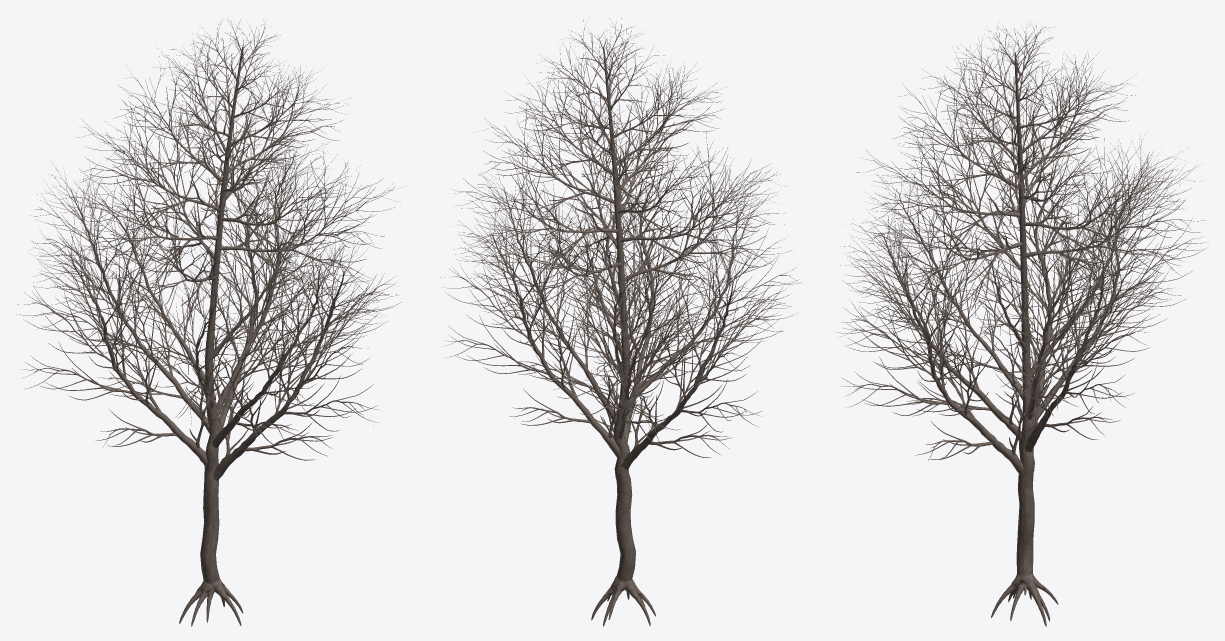
File: bark8.obj
3 views of the same model, side by side, from view 1: azimuth 30°, elevation 25°; view 2: azimuth 150°, elevation 25°; view 3: azimuth 270°, elevation 25° (orthographic). The views are drawn at different scales.
Parts seen in each view (by area): view 1: Bark01_8; view 2: Bark01_8; view 3: Bark01_8.
Boxes of the visible parts, x1=… form: Bark01_8: x1=16, y1=19, x2=400, y2=626; Bark01_8: x1=440, y1=18, x2=801, y2=626; Bark01_8: x1=837, y1=20, x2=1205, y2=626.
Size of the model in its own units: 7.69 by 13.98 by 7.89.
Materials: 1 (1 with a texture image).
